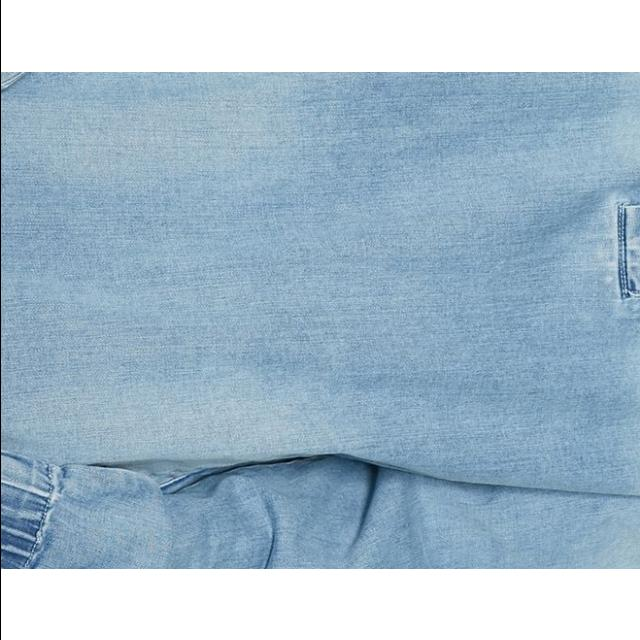denim: (0, 71, 640, 568)
